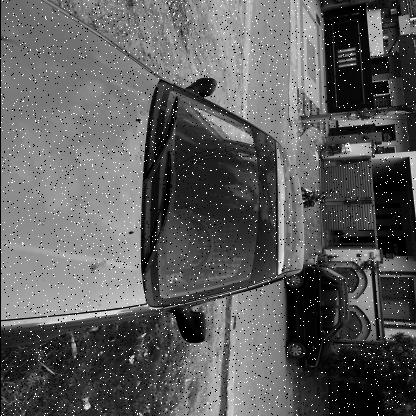no_seatbelt: (197, 228, 255, 276)
